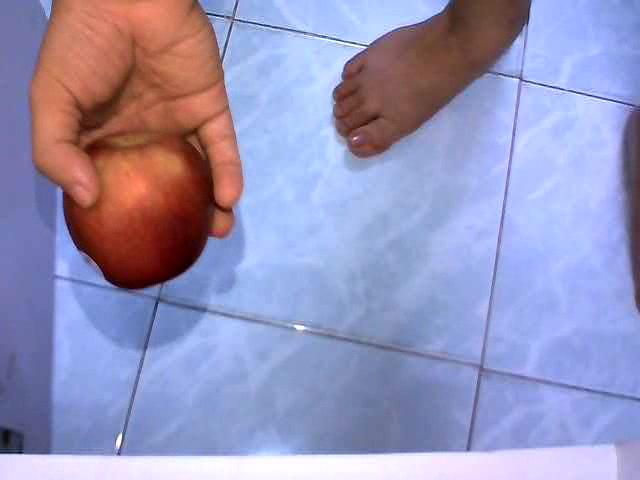apple: (63, 131, 215, 292)
